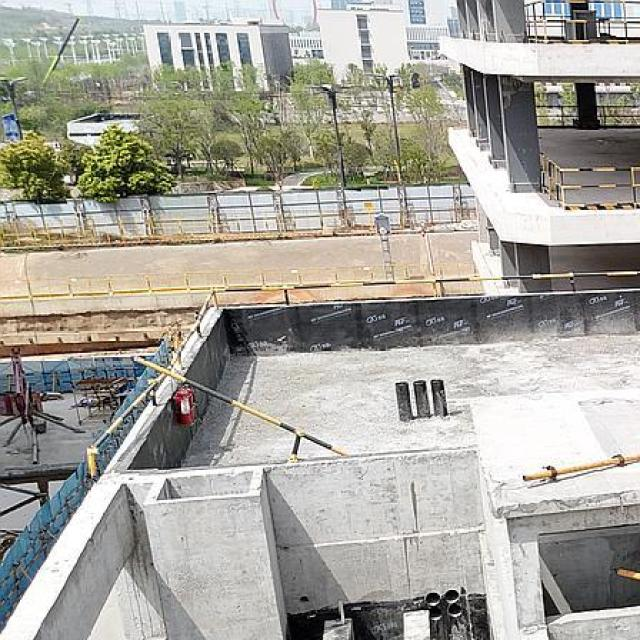edge_guardrail: (84, 269, 640, 482), (132, 355, 351, 464), (540, 152, 640, 211), (523, 0, 640, 43), (595, 104, 640, 126), (536, 104, 578, 126), (614, 566, 640, 584)
